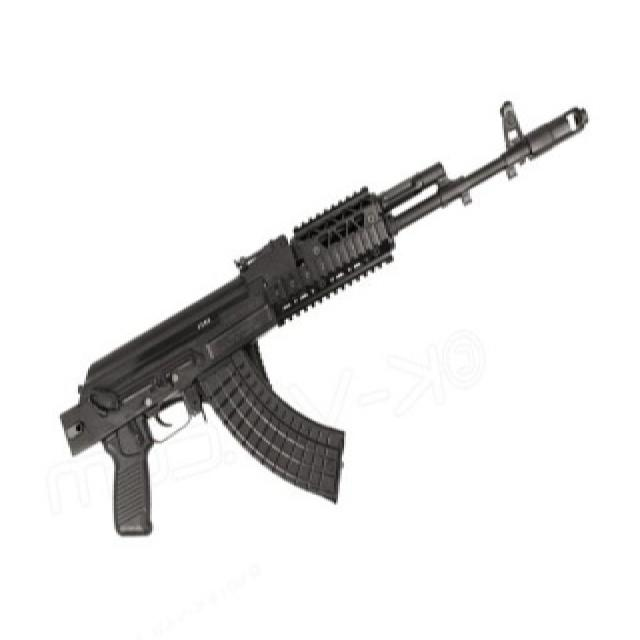rifle: (55, 85, 611, 537)
